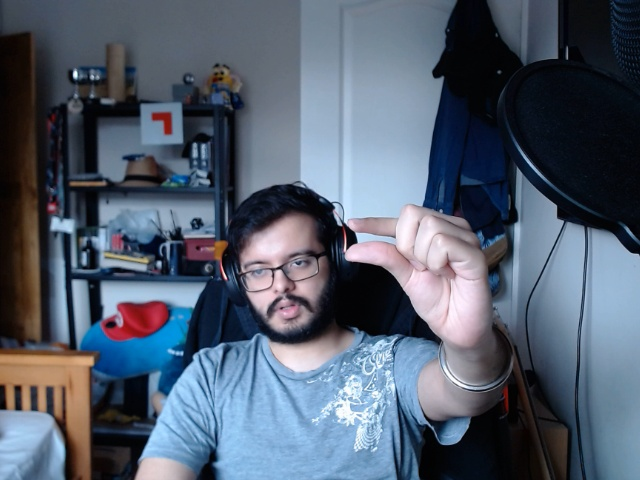Small: (342, 196, 509, 363)
